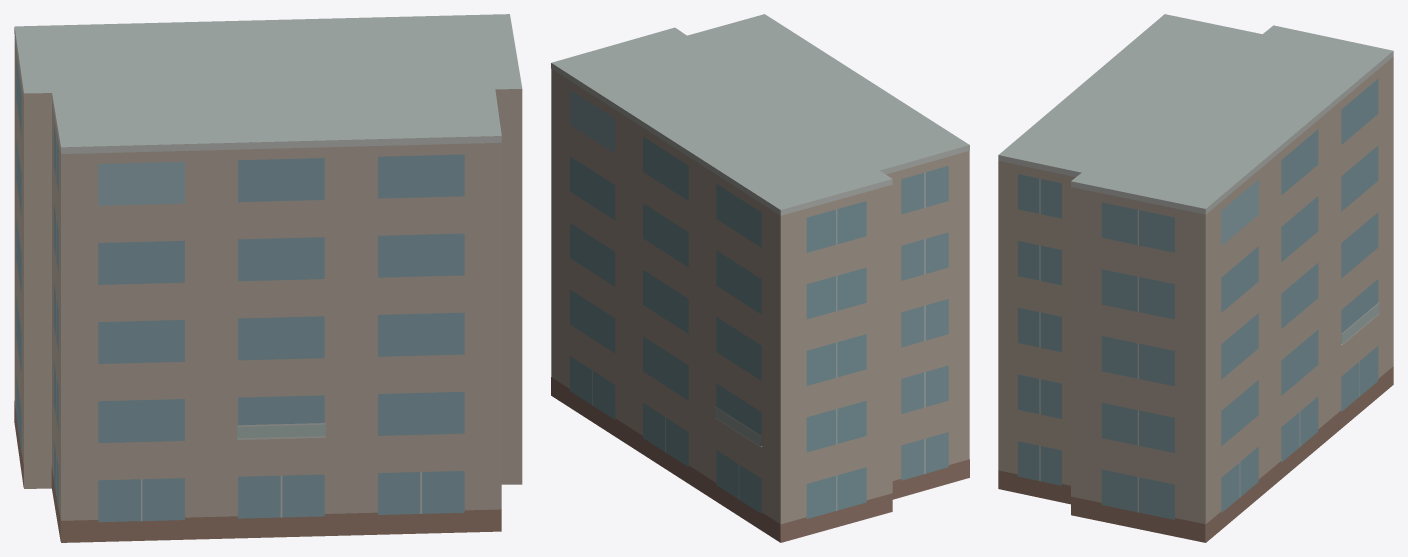
Rendered from survey-upis-32854330.glb.
The picture shows the model from 3 angles, left to right: view 1: azimuth 30°, elevation 25°; view 2: azimuth 150°, elevation 25°; view 3: azimuth 270°, elevation 25°; orthographic projection. The views are drawn at different scales.
Parts seen in each view (by area): view 1: survey-upis-32854330.tmp; view 2: survey-upis-32854330.tmp; view 3: survey-upis-32854330.tmp.
Boxes of the visible parts, <box> form: survey-upis-32854330.tmp: <box>14,14,522,542</box>; survey-upis-32854330.tmp: <box>551,14,969,542</box>; survey-upis-32854330.tmp: <box>998,14,1393,542</box>.
Bounding box in the file's own units: 17.79 × 14.2 × 15.24.
